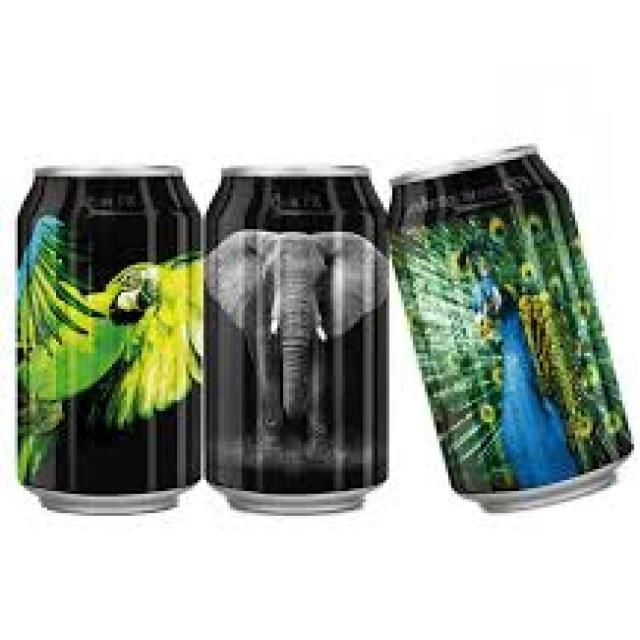Cans: (384, 138, 634, 516), (198, 154, 407, 527), (9, 157, 200, 519)
